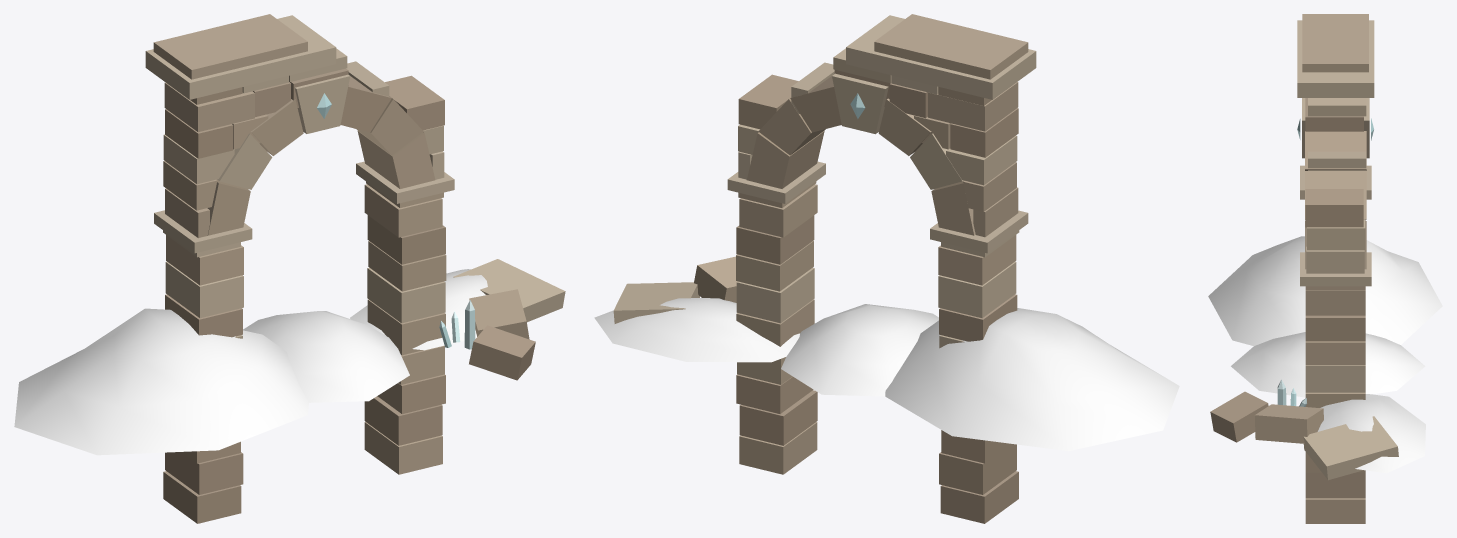
Rendered from ruinas_arco_ligero.glb.
The picture shows the model from 3 angles, left to right: view 1: azimuth 30°, elevation 25°; view 2: azimuth 150°, elevation 25°; view 3: azimuth 270°, elevation 25°; orthographic projection. The views are drawn at different scales.
Parts seen in each view (by area): view 1: ruinas_arco, ruinas_arco_arena; view 2: ruinas_arco, ruinas_arco_arena; view 3: ruinas_arco, ruinas_arco_arena.
Part boxes in pixels (x1=…): ruinas_arco: x1=145, y1=14, x2=565, y2=523; ruinas_arco_arena: x1=14, y1=269, x2=487, y2=455; ruinas_arco: x1=613, y1=14, x2=1036, y2=523; ruinas_arco_arena: x1=594, y1=298, x2=1179, y2=451; ruinas_arco: x1=1210, y1=14, x2=1398, y2=523; ruinas_arco_arena: x1=1208, y1=236, x2=1442, y2=473.
Bounding box in the file's own units: 10.75 × 8.64 × 4.58.
